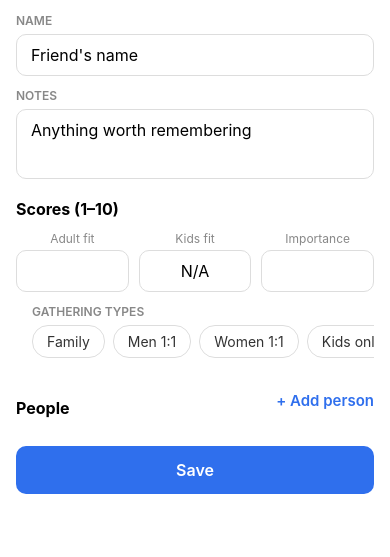
FriendFormScreen (add) › submit__kids_fit_score_out_of_range__shows_validation_error
Type "Dan" into the field with placeholder "Friend's name" at (195, 55), box [16,34,374,76]
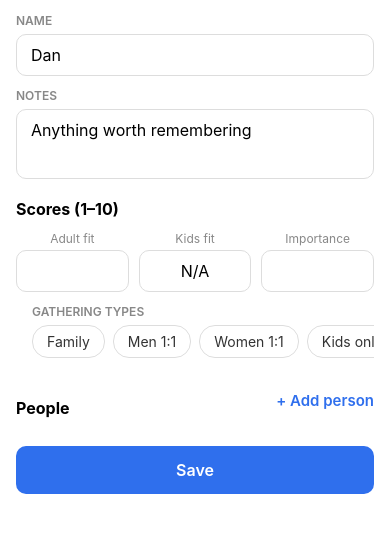
Type "5" into the field with test id "adult-fit-score" at (72, 271), box [16,250,129,292]
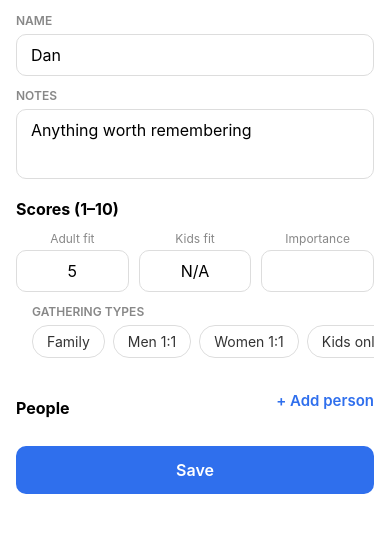
Type "5" into the field with test id "importance-score" at (318, 271), box [261,250,374,292]
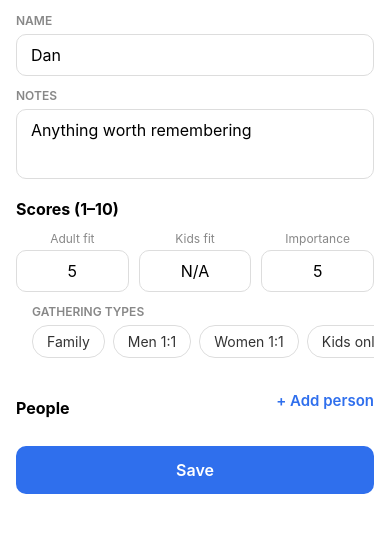
Type "0" into the field with test id "kids-fit-score" at (195, 271), box [139,250,251,292]
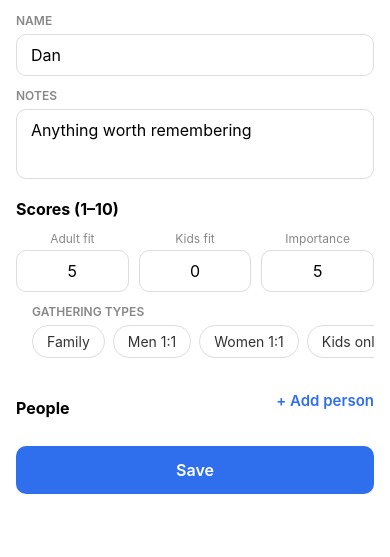
Click the element with test id "save-friend" at (195, 470), box [16,446,374,494]
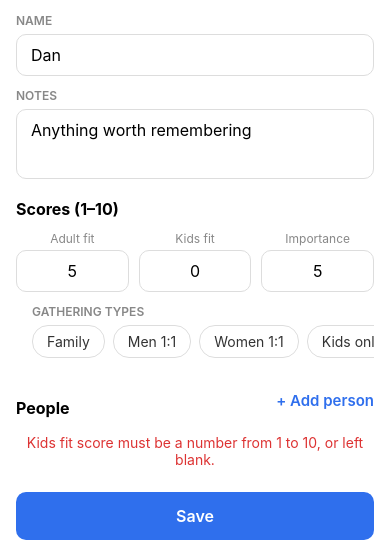
expect the text "Kids fit score must be a number from 1 to 10, or left blank." is shown: met, box [16,434,374,468]
